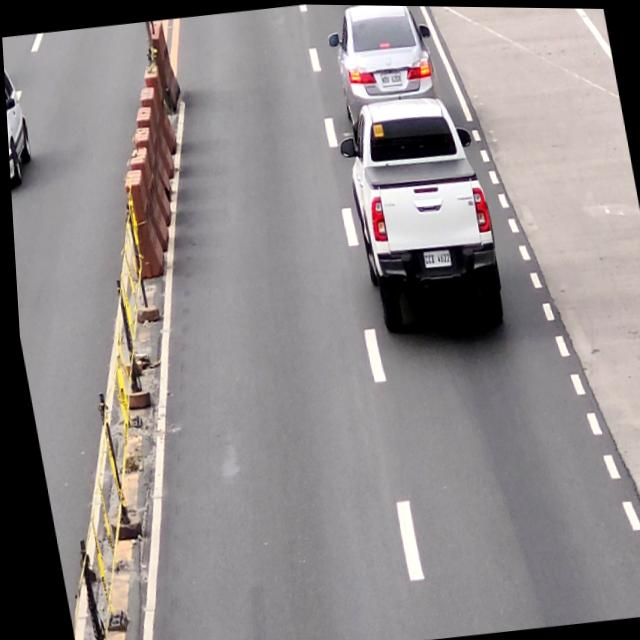Car: (330, 88, 507, 341), (322, 4, 447, 135)
License-Plate: (418, 245, 449, 269), (378, 68, 403, 87)
